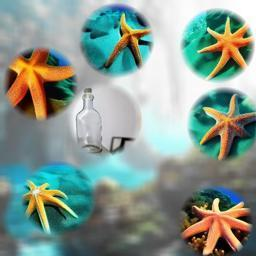not an animal: (74, 85, 134, 154)
